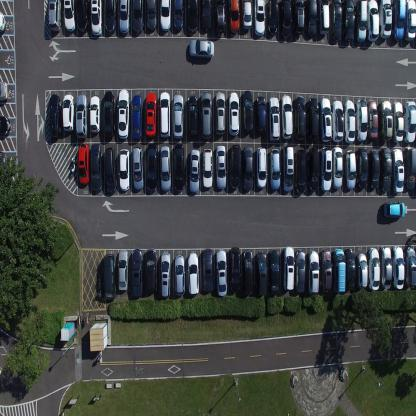car: (102, 253, 116, 299), (228, 144, 242, 189), (117, 87, 129, 139), (48, 92, 61, 140), (104, 146, 117, 194), (215, 248, 228, 296), (379, 99, 393, 143), (332, 249, 346, 293), (280, 93, 293, 140), (173, 142, 185, 192), (90, 142, 102, 192), (293, 94, 306, 140), (319, 96, 332, 142), (75, 93, 88, 139), (379, 146, 392, 192), (146, 142, 158, 191), (131, 249, 143, 298), (241, 89, 254, 134), (307, 147, 320, 192), (307, 250, 320, 295), (282, 245, 295, 290), (172, 92, 184, 140), (159, 144, 171, 192), (145, 91, 157, 139), (282, 144, 294, 192), (103, 90, 115, 138), (131, 146, 144, 190), (268, 249, 280, 296), (378, 0, 392, 40), (279, 0, 293, 40), (355, 98, 368, 141), (342, 0, 355, 43), (215, 144, 227, 190), (214, 91, 226, 137), (307, 96, 319, 142), (392, 147, 404, 193), (241, 249, 253, 295), (145, 248, 157, 294), (188, 38, 214, 59), (320, 147, 332, 192), (355, 0, 367, 45), (392, 245, 404, 290), (255, 251, 267, 296), (187, 251, 199, 296), (201, 91, 212, 140), (392, 0, 405, 41), (242, 144, 253, 192), (118, 148, 130, 192), (367, 0, 379, 44), (330, 0, 342, 44), (380, 245, 392, 289), (368, 246, 380, 290), (202, 248, 214, 292), (160, 251, 171, 299), (269, 95, 280, 142), (256, 146, 268, 189), (404, 101, 416, 144), (331, 146, 343, 189), (77, 142, 89, 185), (404, 146, 416, 189), (404, 245, 416, 288), (320, 249, 332, 292), (189, 148, 200, 194), (228, 90, 239, 136), (295, 148, 306, 194), (229, 246, 240, 292), (202, 147, 214, 189), (332, 100, 344, 142), (117, 249, 129, 291), (187, 95, 198, 140), (344, 99, 355, 144), (294, 249, 305, 294), (344, 247, 356, 288), (160, 90, 170, 139), (357, 146, 368, 190), (292, 0, 305, 37), (392, 102, 404, 142), (344, 150, 356, 190), (62, 93, 74, 132), (269, 148, 280, 190), (174, 254, 185, 296), (132, 95, 142, 140), (267, 0, 279, 37), (90, 0, 102, 37), (63, 0, 76, 34), (253, 0, 265, 36), (405, 0, 415, 43), (255, 95, 266, 134), (48, 0, 61, 33), (318, 0, 329, 38), (76, 0, 89, 32), (368, 99, 378, 140), (369, 148, 379, 189), (104, 0, 116, 34), (306, 0, 317, 37), (186, 0, 198, 33), (383, 200, 405, 218), (356, 252, 367, 288), (119, 0, 130, 35), (146, 0, 158, 32), (132, 0, 144, 32), (90, 95, 100, 133), (214, 0, 225, 34), (200, 0, 212, 31), (160, 0, 172, 31), (229, 0, 240, 33), (241, 0, 252, 30), (173, 0, 184, 30), (0, 114, 11, 138), (0, 81, 9, 103), (0, 10, 6, 35), (0, 151, 7, 170)
